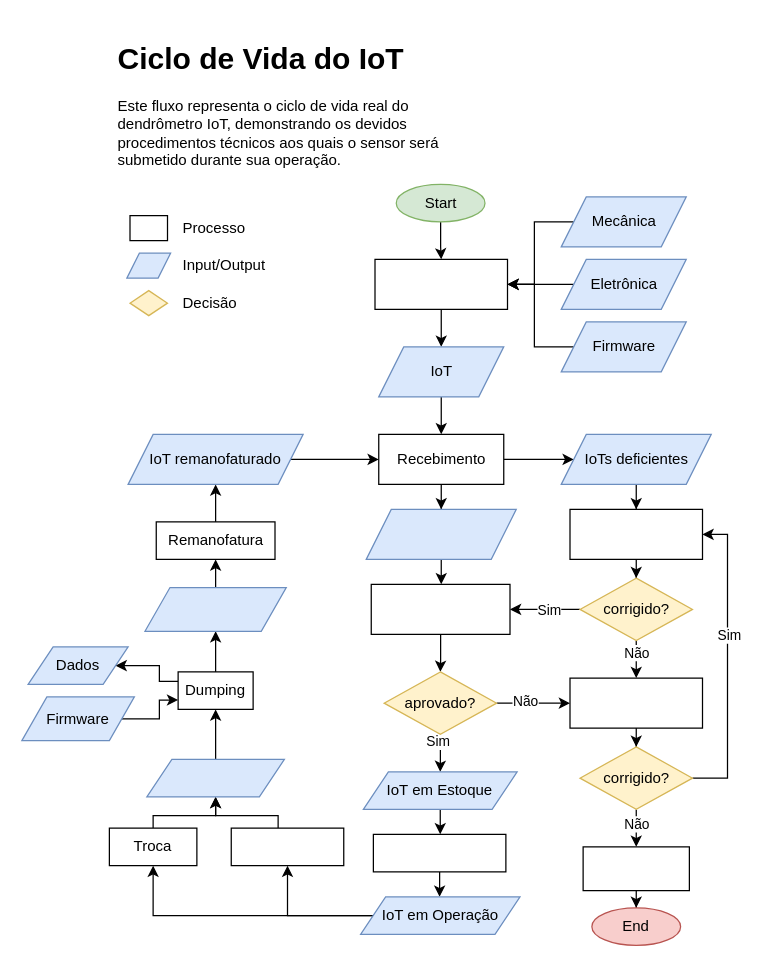
Image size: 763x968. Some labels were removed from this diagram. Here are the shapes that lost their labels. From the top down, the box of each, then its label:
(374, 258, 508, 309): Fabricação
(365, 508, 516, 559): IoTs saudáveis
(569, 508, 702, 559): Análise Técnica I
(144, 586, 286, 631): IoT pós-Dump
(370, 583, 510, 634): Monitoramento
(569, 677, 702, 728): Análise Técnica II
(146, 758, 284, 797): IoT retornado
(230, 827, 344, 866): Desinstalação
(372, 833, 506, 872): Envio ao Cliente
(582, 846, 689, 891): Descarte
